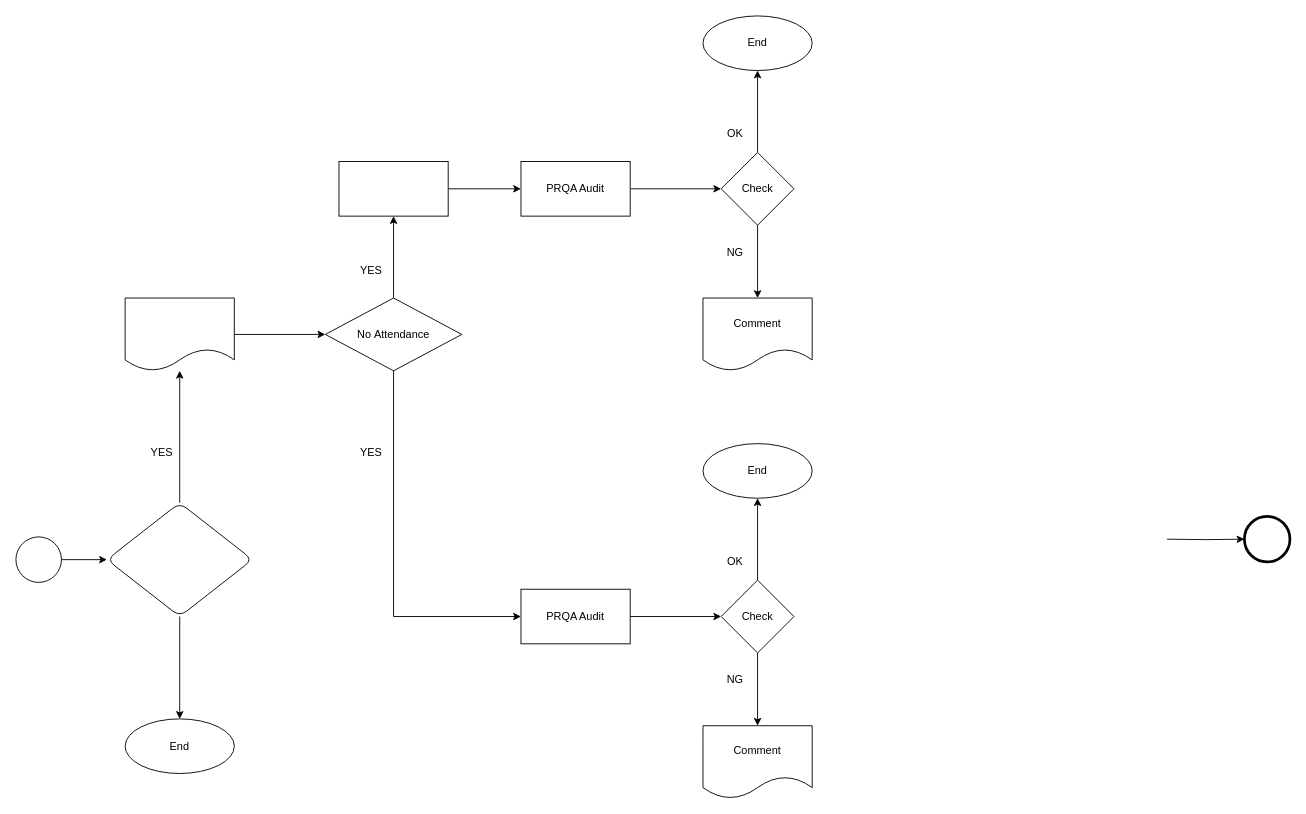
Image size: 1306x814. Some labels were removed from this diagram. Each missing label, with the centre of its shape:
"Alarm display red color" belongs at point 179,334.
"Change Point" belongs at point 393,188.
"Check operator new employee or No Attendance" belongs at point 179,559.
